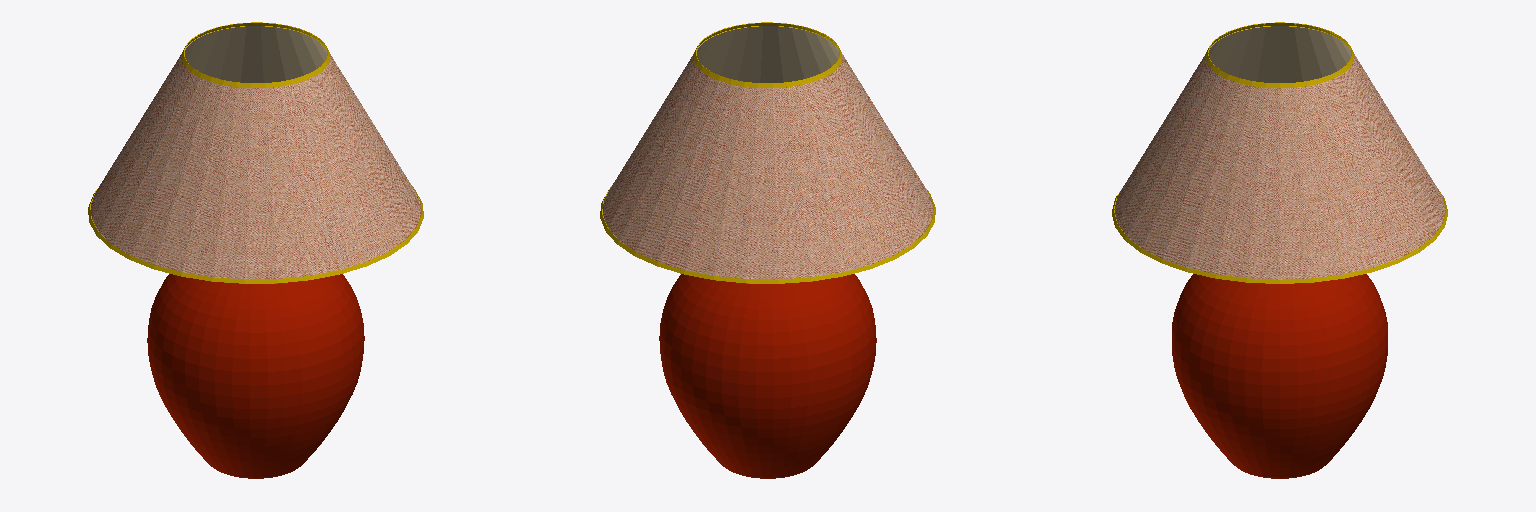
3 views of the same model, side by side, from view 1: azimuth 30°, elevation 25°; view 2: azimuth 150°, elevation 25°; view 3: azimuth 270°, elevation 25° (orthographic).
Parts seen in each view (by area): view 1: LampShade_Cylinder.001, Lamp_Plane; view 2: LampShade_Cylinder.001, Lamp_Plane; view 3: LampShade_Cylinder.001, Lamp_Plane.
Part boxes in pixels (x1,y1,x2,y2): LampShade_Cylinder.001: (88, 22, 423, 283); Lamp_Plane: (147, 274, 364, 478); LampShade_Cylinder.001: (600, 22, 935, 283); Lamp_Plane: (659, 274, 876, 478); LampShade_Cylinder.001: (1112, 22, 1447, 283); Lamp_Plane: (1172, 274, 1387, 478).
Bounding box in the file's own units: 0.5257 × 0.7 × 0.5257.
Materials: 7 (1 with a texture image).